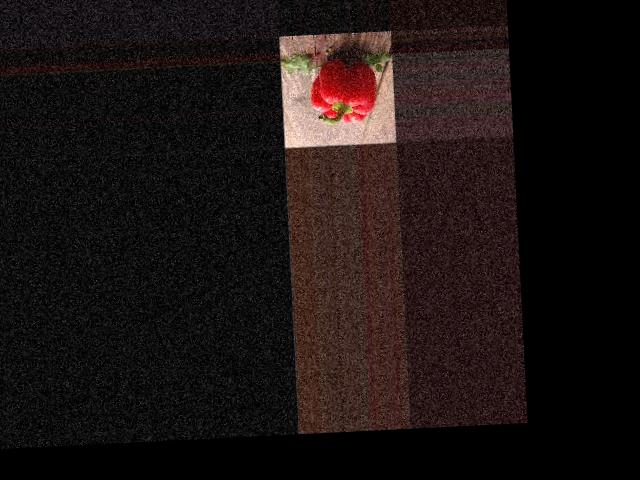bell_pepper: (305, 55, 382, 130)
